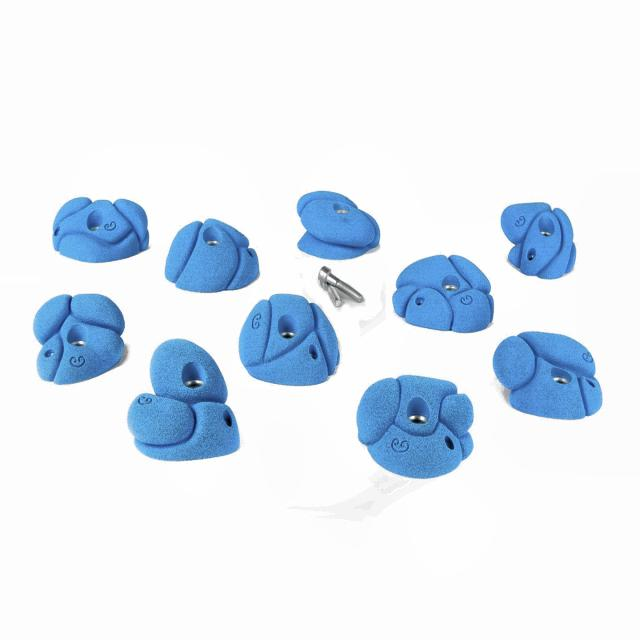Hold: (128, 339, 237, 458), (360, 375, 475, 479), (496, 328, 606, 416), (388, 247, 496, 331), (238, 300, 344, 374), (36, 292, 128, 374), (164, 216, 257, 292), (289, 191, 376, 263), (498, 200, 578, 276), (54, 200, 148, 259)
